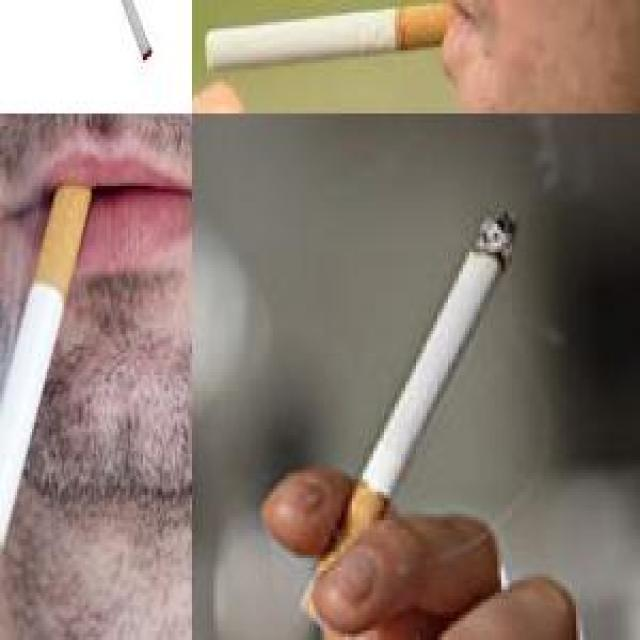smoking: (341, 200, 512, 516), (0, 173, 94, 596), (205, 0, 468, 76), (90, 0, 154, 63)
